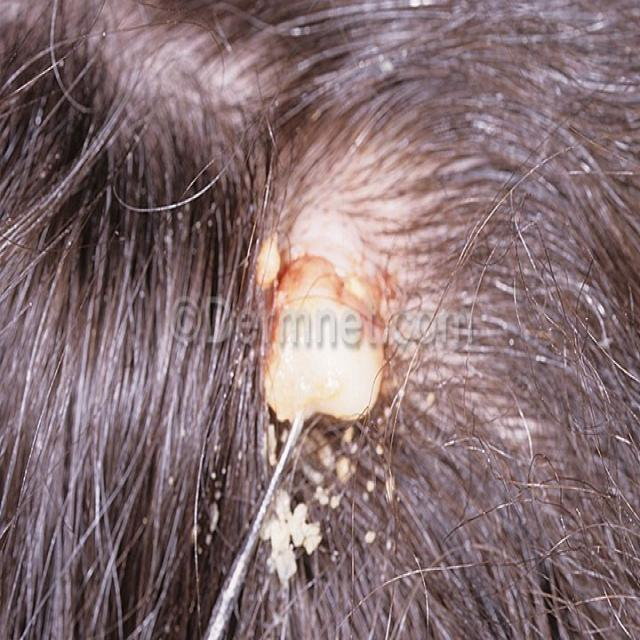Eczema: (239, 254, 396, 575)
